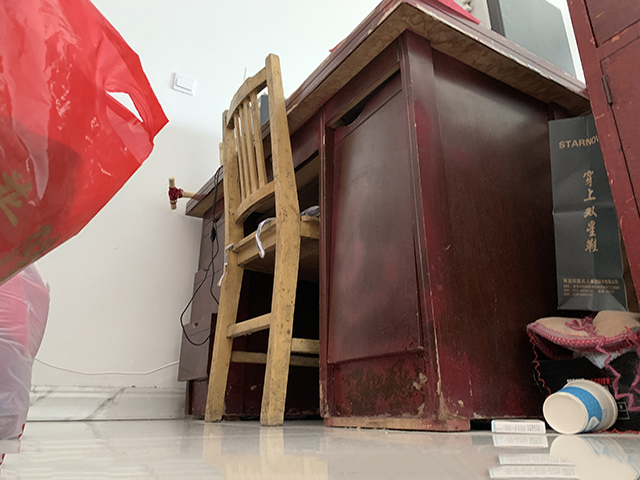stool: (203, 52, 321, 428)
table: (176, 1, 592, 432)
